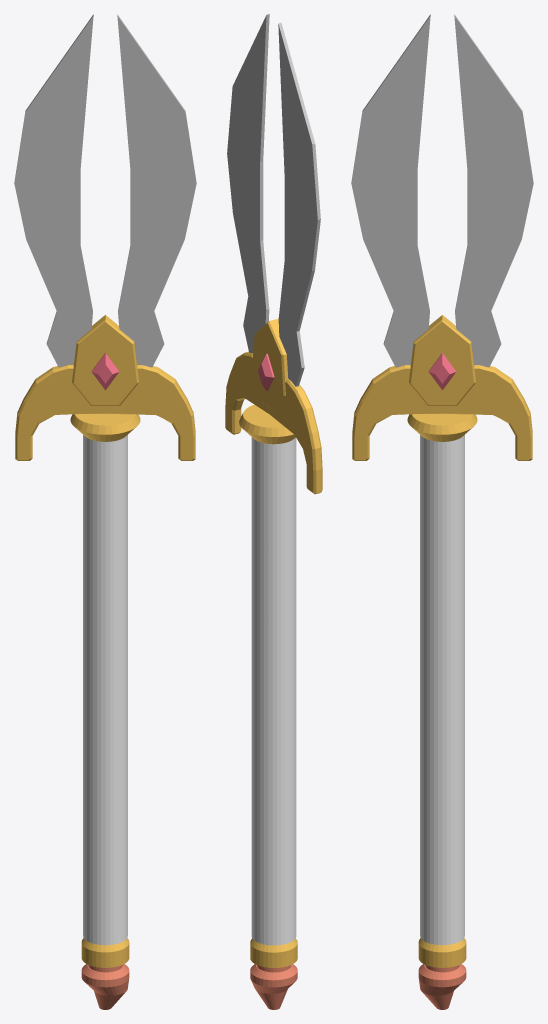
Rendered from CopperHealingStaff.fbx.
3 views of the same model, side by side, from view 1: azimuth 90°, elevation 25°; view 2: azimuth 210°, elevation 25°; view 3: azimuth 270°, elevation 25° (orthographic).
Visible parts, largest first — view 1: Spear17; view 2: Spear17; view 3: Spear17.
Boxes of the visible parts, left/top/right/bottom form: Spear17: left=14, top=14, right=196, bottom=1009; Spear17: left=225, top=14, right=322, bottom=1009; Spear17: left=351, top=14, right=533, bottom=1009.
Bounding box in the file's own units: 38.76 × 605 × 101.
